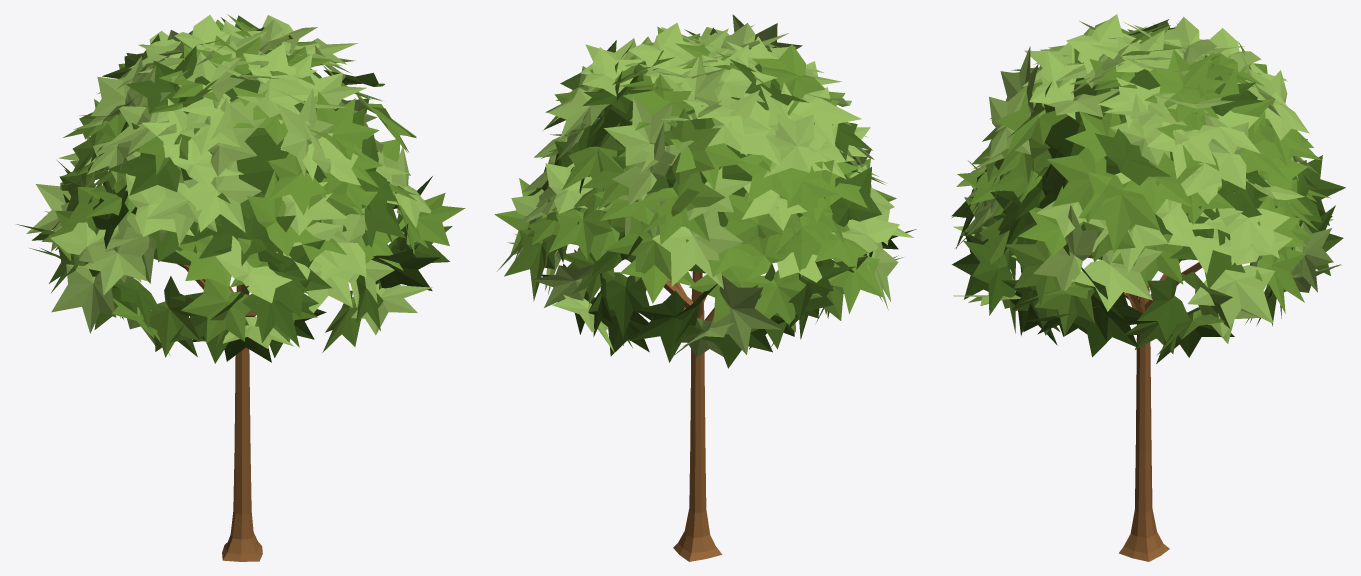
3 views of the same model, side by side, from view 1: azimuth 30°, elevation 25°; view 2: azimuth 150°, elevation 25°; view 3: azimuth 270°, elevation 25° (orthographic).
Parts seen in each view (by area): view 1: leaves_light, leaves_mid, leaves_dark, trunk, crown_core; view 2: leaves_light, leaves_mid, leaves_dark, trunk, crown_core; view 3: leaves_light, leaves_mid, leaves_dark, trunk, crown_core.
Boxes of the visible parts, x1,y1,x2,y2 form: leaves_light: (26, 15, 432, 348); leaves_mid: (42, 14, 465, 357); leaves_dark: (16, 15, 452, 363); trunk: (177, 264, 262, 561); crown_core: (121, 50, 338, 265); leaves_light: (497, 14, 913, 358); leaves_mid: (494, 26, 903, 347); leaves_dark: (526, 40, 916, 368); trunk: (628, 260, 722, 561); crown_core: (579, 74, 802, 273); leaves_light: (953, 14, 1342, 343); leaves_mid: (957, 20, 1330, 355); leaves_dark: (951, 19, 1345, 363); trunk: (1119, 260, 1202, 561); crown_core: (1003, 55, 1277, 260).
Bounding box in the file's own units: 4.52 × 6.08 × 4.3.
